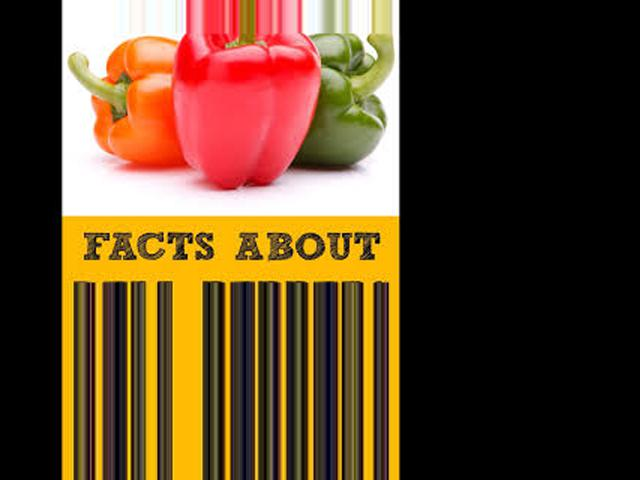bell_pepper: (309, 34, 393, 190)
